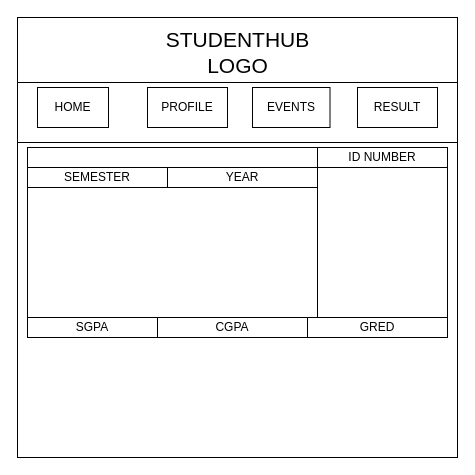
Image size: 475x475. Some labels were removed from this diagram. Each missing label, with the centre of its shape:
MARK TABLE: [172,252]
NAME: [172,157]
PHOTO: [382,242]
